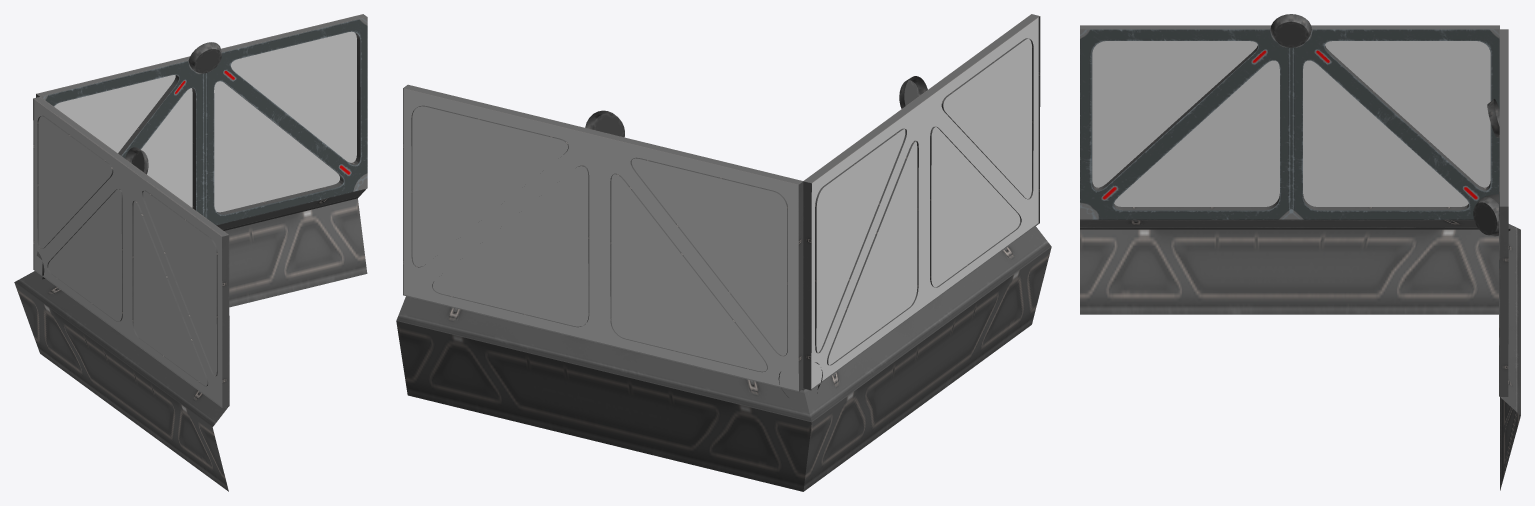
Rendered from wall-window-inner-CQBaIaWp.glb.
The picture shows the model from 3 angles, left to right: view 1: azimuth 30°, elevation 25°; view 2: azimuth 150°, elevation 25°; view 3: azimuth 270°, elevation 25°; orthographic projection. The views are drawn at different scales.
Visible parts, largest first — view 1: WallWindow_Corner_Square_Inner; view 2: WallWindow_Corner_Square_Inner; view 3: WallWindow_Corner_Square_Inner.
Boxes of the visible parts, box(x1,y1,x2,y2) form: WallWindow_Corner_Square_Inner: box(14, 14, 367, 491); WallWindow_Corner_Square_Inner: box(396, 14, 1051, 491); WallWindow_Corner_Square_Inner: box(1080, 14, 1520, 490).
Bounding box in the file's own units: 4.2 × 3.19 × 4.2.
Materials: 4 (3 with a texture image).
